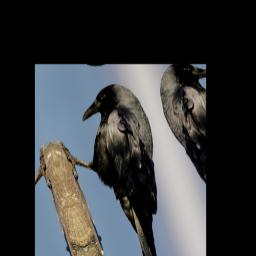Crow: (40, 76, 196, 256)
